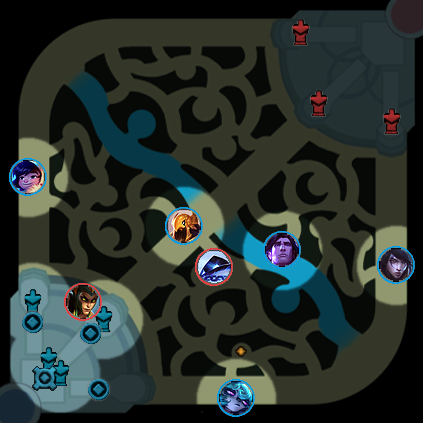Aphelios: (377, 246, 415, 284)
Azir: (165, 207, 203, 245)
Cassiopeia: (64, 283, 102, 321)
Nunu: (9, 158, 47, 196)
Taric: (263, 231, 301, 269)
Vex: (217, 379, 255, 417)
Xerath: (195, 248, 233, 286)
